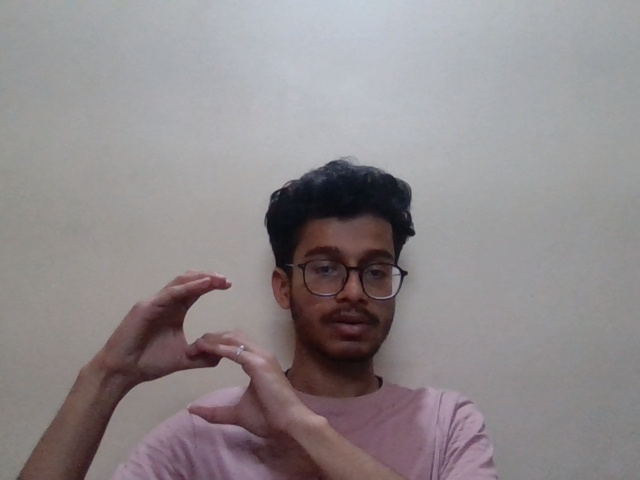S: (90, 267, 303, 447)
